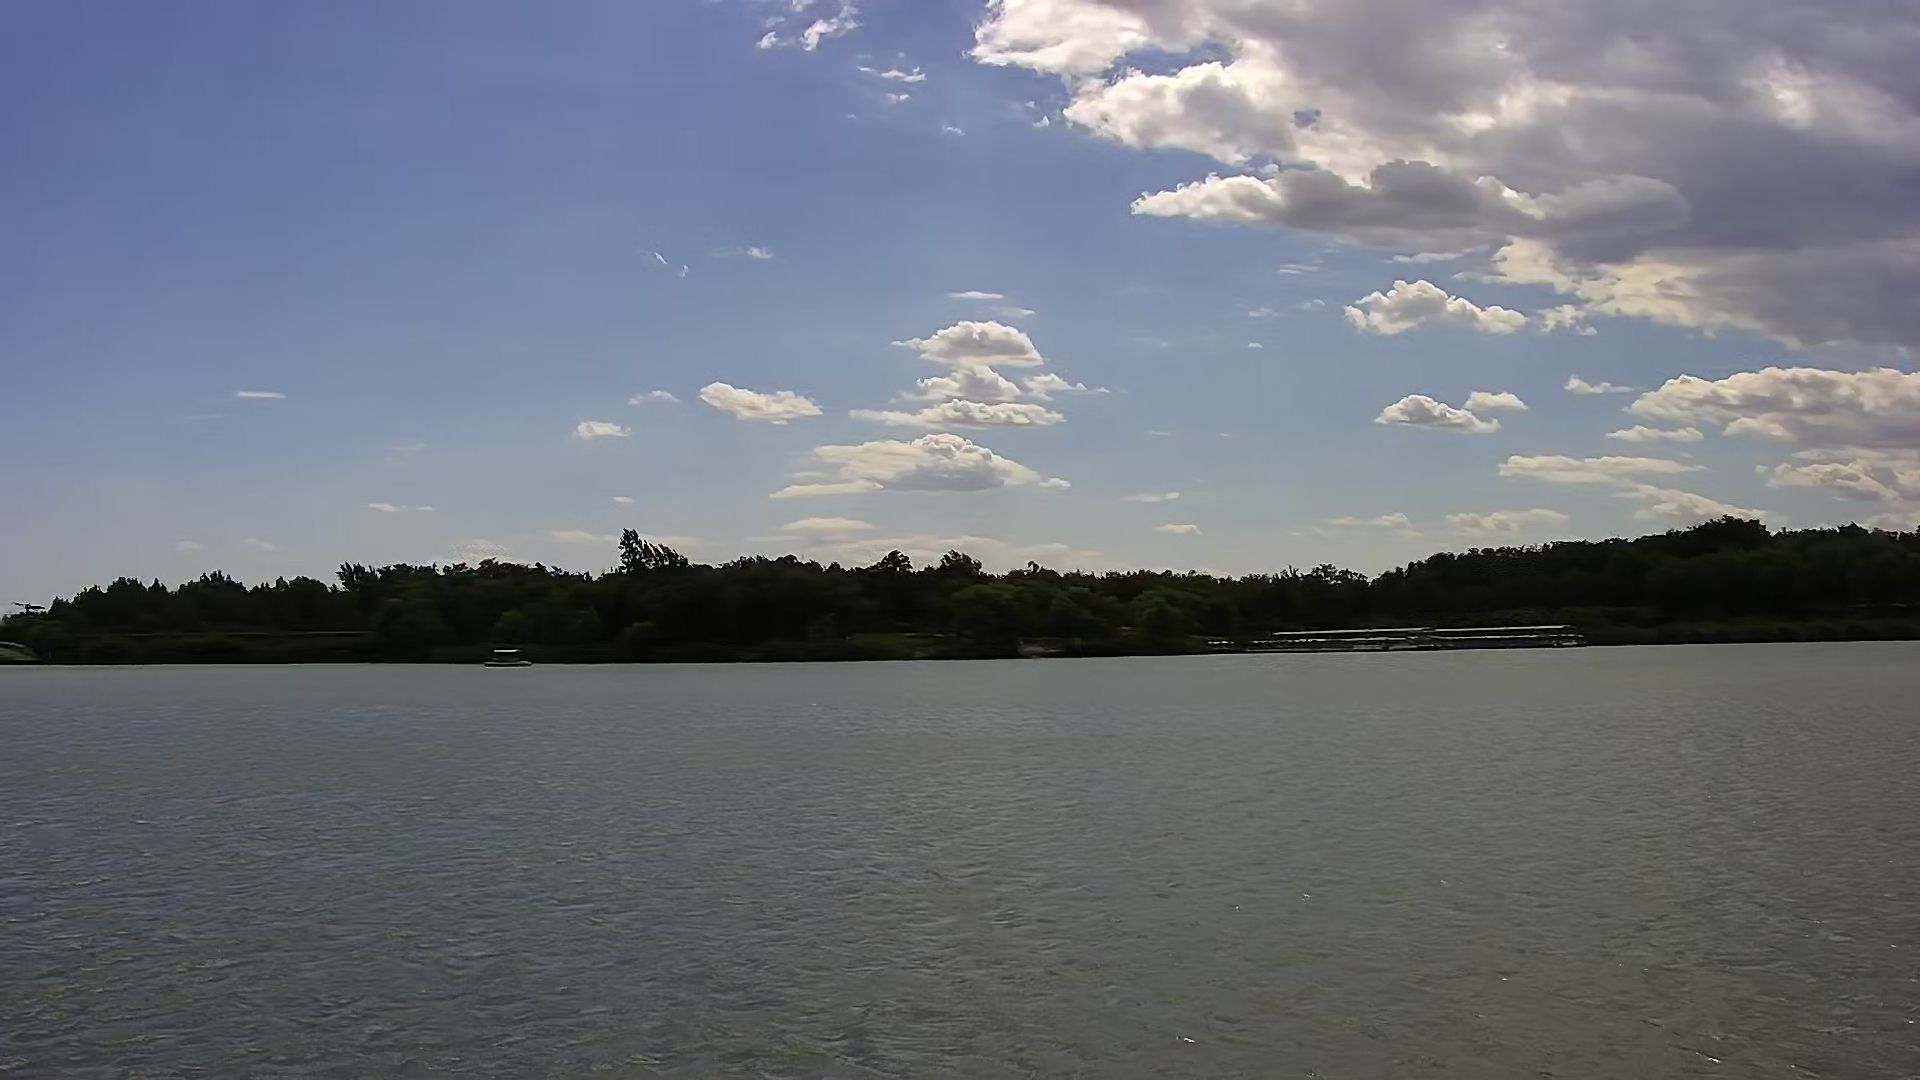boat: (487, 642, 541, 670)
harbor: (1241, 618, 1601, 655)
